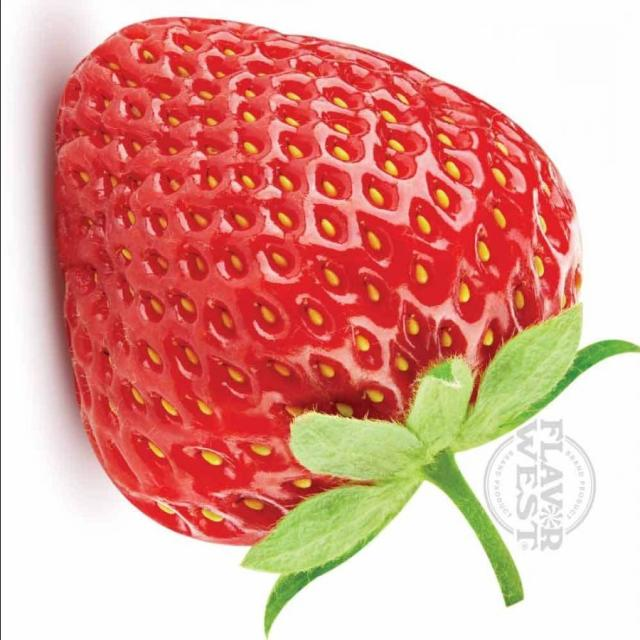strawberry: (40, 5, 637, 596)
